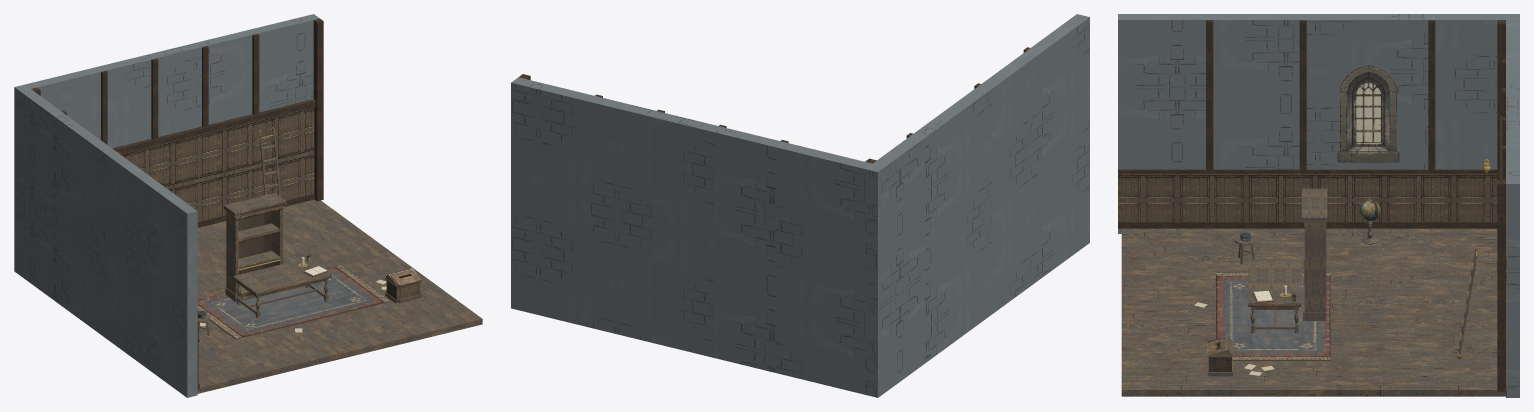
File: library-room.glb
The picture shows the model from 3 angles, left to right: view 1: azimuth 30°, elevation 25°; view 2: azimuth 150°, elevation 25°; view 3: azimuth 270°, elevation 25°; orthographic projection. The views are drawn at different scales.
Parts seen in each view (by area): view 1: shell, case, table, returns, decor; view 2: shell; view 3: shell, case, table, decor, returns.
Part boxes in pixels (left/top/right/bottom): shell: left=14, top=14, right=482, bottom=397; case: left=223, top=193, right=286, bottom=301; table: left=233, top=253, right=332, bottom=318; returns: left=385, top=268, right=421, bottom=303; decor: left=197, top=126, right=386, bottom=338; shell: left=511, top=14, right=1089, bottom=397; shell: left=1118, top=14, right=1519, bottom=397; case: left=1302, top=188, right=1327, bottom=320; table: left=1248, top=260, right=1301, bottom=333; decor: left=1194, top=159, right=1490, bottom=375; returns: left=1207, top=335, right=1233, bottom=376.
Bounding box in the file's own units: 11.4 × 6.87 × 11.4.
33 materials, 16 textured.
